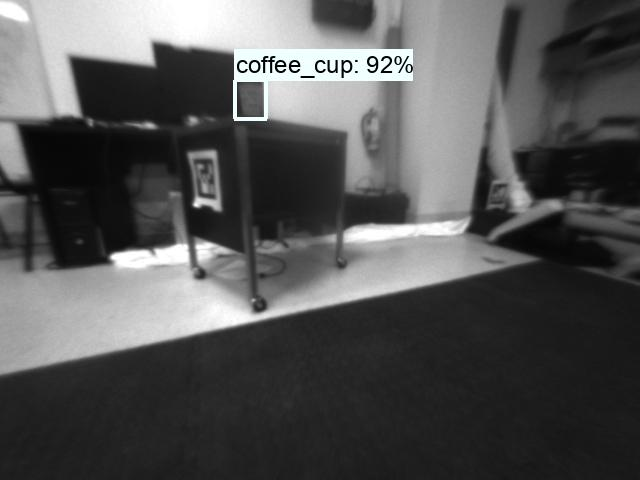coffee_cup: (234, 79, 267, 121)
